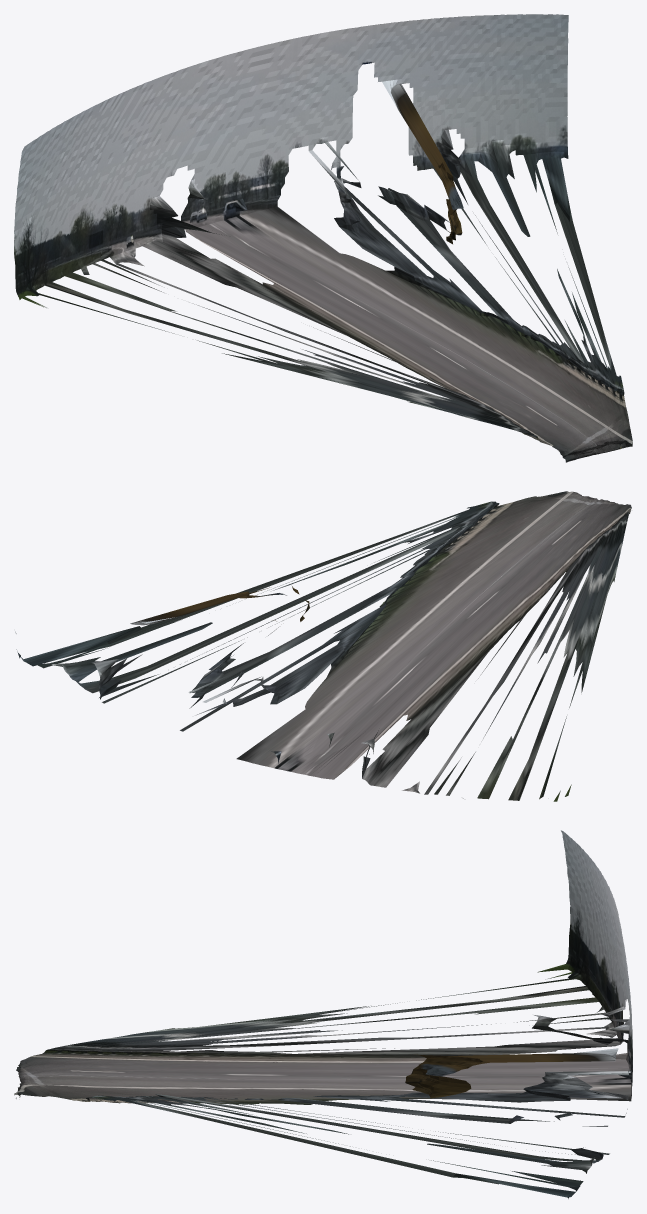
3 renders of one model, top to bottom at view 1: azimuth 30°, elevation 25°; view 2: azimuth 150°, elevation 25°; view 3: azimuth 270°, elevation 25°, orthographic. The views are drawn at different scales.
Visible parts, largest first — view 1: defaultobject; view 2: defaultobject; view 3: defaultobject.
Part boxes in pixels (x1,y1,x2,y2): defaultobject: [14, 14, 632, 462]; defaultobject: [15, 491, 631, 801]; defaultobject: [14, 830, 632, 1198].
Size of the model in its own units: 41.14 by 12.39 by 44.4.
Materials: 1 (1 with a texture image).
